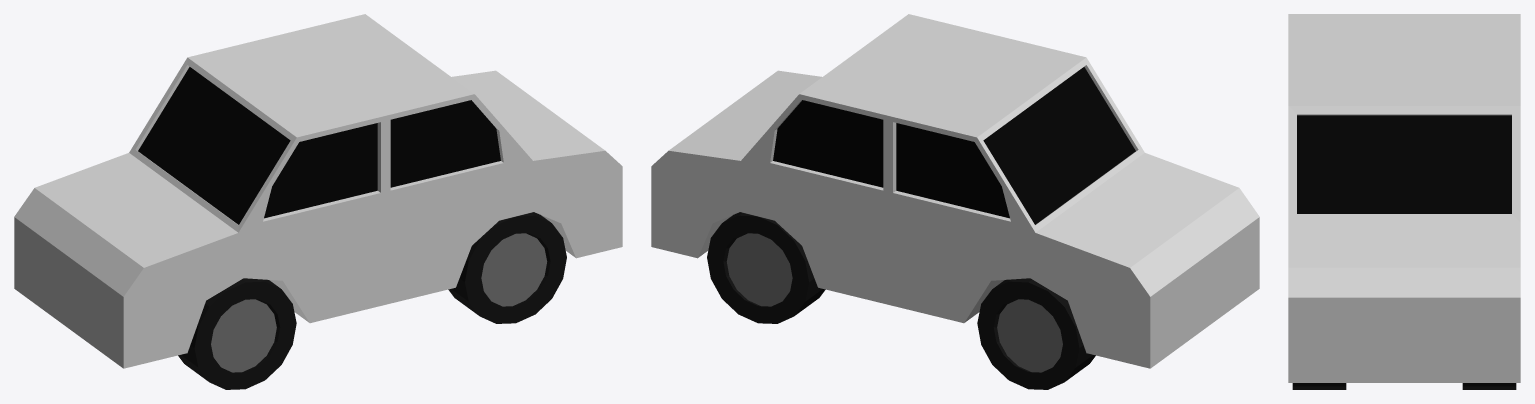
Rendered from Sedan.glb.
3 views of the same model, side by side, from view 1: azimuth 30°, elevation 25°; view 2: azimuth 150°, elevation 25°; view 3: azimuth 270°, elevation 25° (orthographic). The views are drawn at different scales.
Visible parts, largest first — view 1: Sedan, SedanWheels; view 2: Sedan, SedanWheels; view 3: Sedan, SedanWheels.
Part boxes in pixels (box(x1,y1,x2,y2)): Sedan: box(14, 14, 622, 368); SedanWheels: box(138, 67, 566, 389); Sedan: box(651, 14, 1259, 368); SedanWheels: box(707, 67, 1135, 389); Sedan: box(1288, 14, 1520, 382); SedanWheels: box(1292, 115, 1516, 389).
Bounding box in the file's own units: 5.27 × 2.43 × 2.
Materials: 1 (1 with a texture image).
